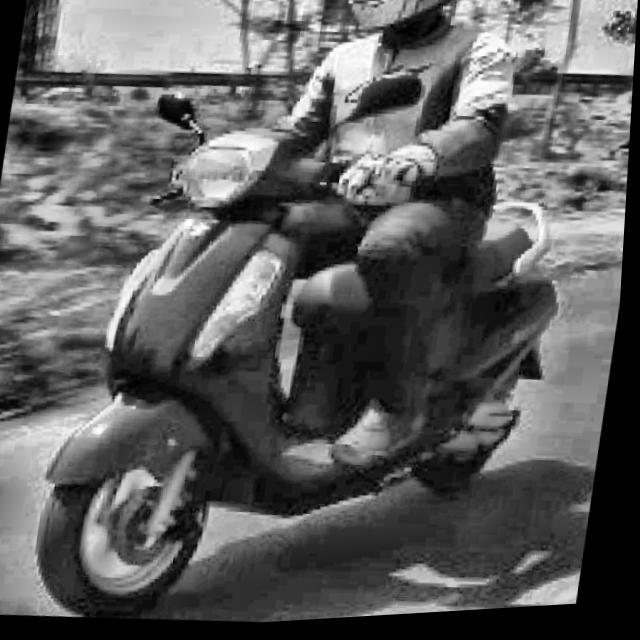motorcycle: (0, 31, 592, 639)
